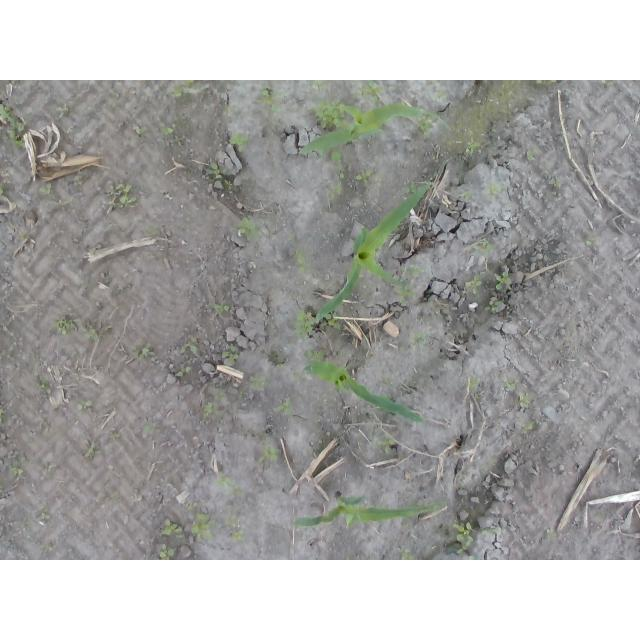Maize: (315, 182, 434, 326), (303, 356, 429, 427), (299, 101, 454, 156), (292, 491, 449, 530)
Weeds: (313, 99, 348, 129), (0, 105, 24, 148), (400, 269, 422, 307), (107, 183, 137, 210), (188, 514, 216, 542), (452, 522, 474, 554), (216, 473, 243, 496), (295, 311, 315, 338), (330, 166, 345, 201), (255, 89, 281, 109), (315, 312, 341, 332), (355, 80, 383, 98), (224, 520, 244, 544), (162, 520, 186, 540), (234, 217, 256, 237), (273, 397, 295, 417), (258, 446, 280, 466), (10, 454, 27, 479), (474, 240, 495, 260), (265, 350, 287, 369), (163, 126, 185, 144), (208, 163, 229, 181), (54, 320, 74, 337), (496, 271, 513, 291), (222, 346, 239, 366), (357, 171, 380, 185), (175, 80, 193, 97), (85, 439, 100, 459), (130, 346, 151, 360), (469, 374, 483, 395), (158, 544, 176, 560), (227, 134, 249, 147), (297, 251, 308, 277), (410, 330, 427, 346), (379, 438, 395, 454), (466, 279, 483, 294), (81, 329, 99, 343), (399, 548, 418, 561), (251, 375, 267, 390), (181, 340, 197, 355), (518, 392, 531, 410), (38, 503, 50, 522), (201, 402, 215, 418), (37, 373, 49, 390), (77, 400, 92, 413), (468, 138, 480, 154), (482, 527, 499, 538), (503, 380, 517, 393), (485, 300, 499, 312), (39, 183, 53, 195), (177, 366, 191, 378), (213, 304, 230, 313), (58, 105, 69, 118), (312, 82, 329, 89), (524, 422, 537, 431), (331, 152, 342, 162), (143, 423, 154, 433), (550, 179, 559, 190), (548, 526, 556, 538), (585, 237, 595, 246), (135, 128, 145, 137), (490, 186, 499, 194), (0, 406, 4, 422), (461, 191, 471, 197), (527, 151, 534, 158)
